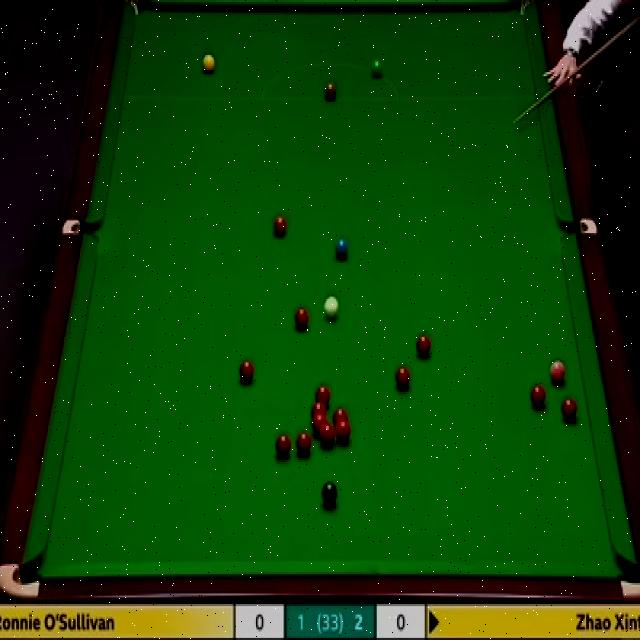black-ball: (321, 479, 338, 510)
blue-ball: (331, 236, 347, 258)
brown-ball: (324, 80, 337, 102)
green-ball: (370, 59, 384, 79)
pink-ball: (550, 358, 566, 386)
red-ball: (238, 358, 256, 387), (295, 430, 313, 459), (531, 384, 549, 409), (274, 432, 291, 458), (335, 420, 351, 446), (394, 366, 410, 392), (273, 216, 291, 239), (561, 398, 579, 421), (417, 332, 432, 358), (294, 308, 310, 330), (320, 422, 334, 447), (312, 415, 327, 435), (314, 385, 331, 402), (311, 401, 326, 418), (333, 409, 348, 424)
white-ball: (323, 296, 340, 321)
yellow-ball: (202, 55, 216, 76)
